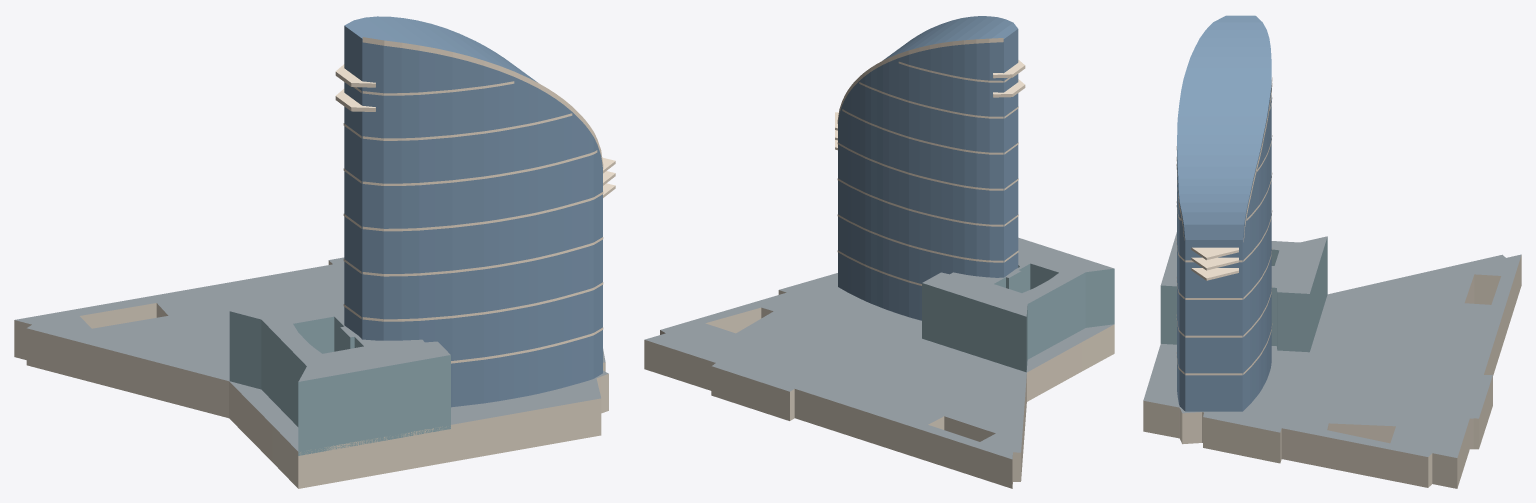
File: barcelona-hotel-w.glb
3 renders of one model, left to right at view 1: azimuth 30°, elevation 25°; view 2: azimuth 150°, elevation 25°; view 3: azimuth 270°, elevation 25°, orthographic. The views are drawn at different scales.
Visible parts, largest first — view 1: W Barcelona; view 2: W Barcelona; view 3: W Barcelona.
Boxes of the visible parts, x1,y1,x2,y2 form: W Barcelona: (14, 16, 615, 488); W Barcelona: (644, 16, 1114, 488); W Barcelona: (1143, 15, 1521, 488).
Size of the model in its own units: 127 by 99.3 by 100.
